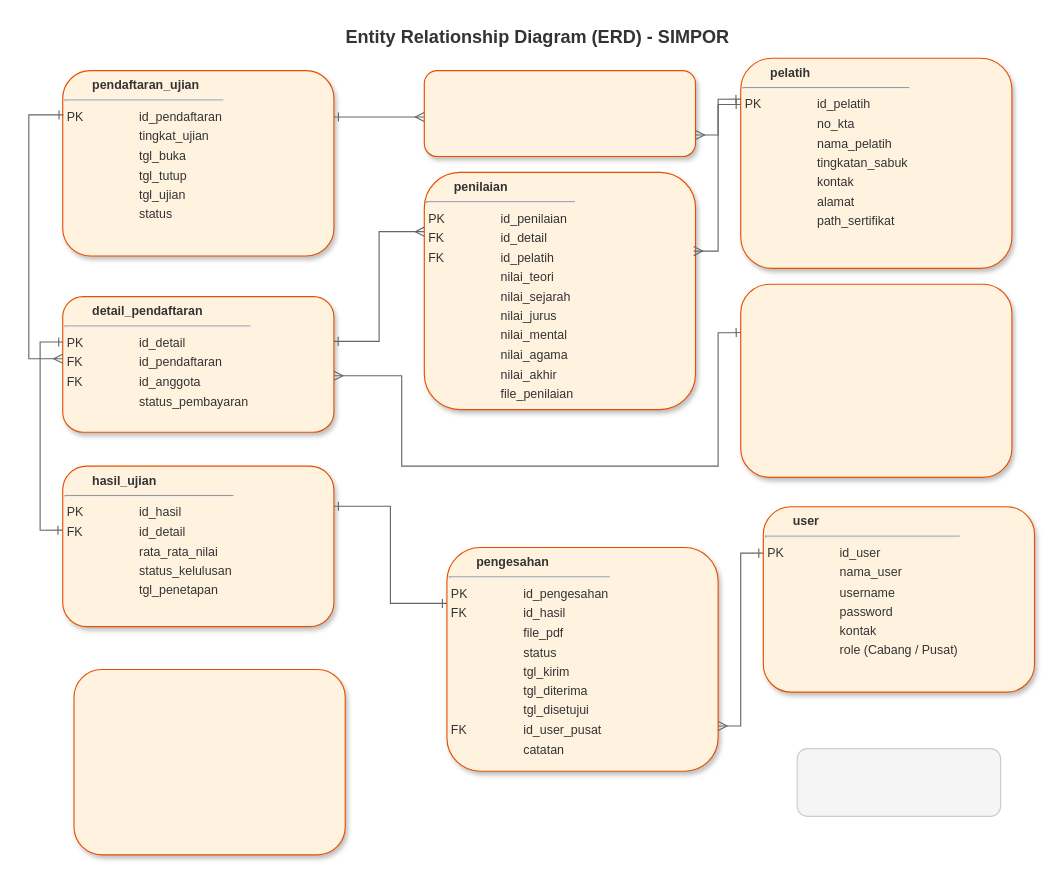
Some shapes in this 1061 by 883 pixel diagram are drawn without their labels. The centre of each missing label's shape, as x and y in pixels:
"anggota PK id_anggota no_kta nama_anggota tingkatan_sabuk kontak alamat status" belongs at point (877, 382).
"Keterangan: PK = Primary Key FK = Foreign Key" belongs at point (898, 781).
"penguji_ujian PK, FK id_pendaftaran PK, FK id_pelatih" belongs at point (560, 114).
"profil PK id_profil tipe nama_organisasi singkatan alamat kontak" belongs at point (210, 763).
